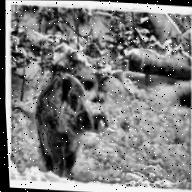boar: (23, 54, 114, 174)
